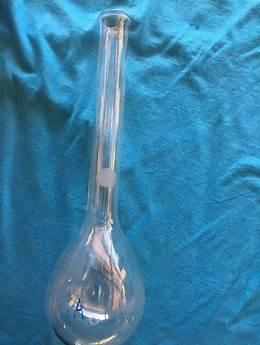Volumetric flask: (47, 16, 141, 339)
